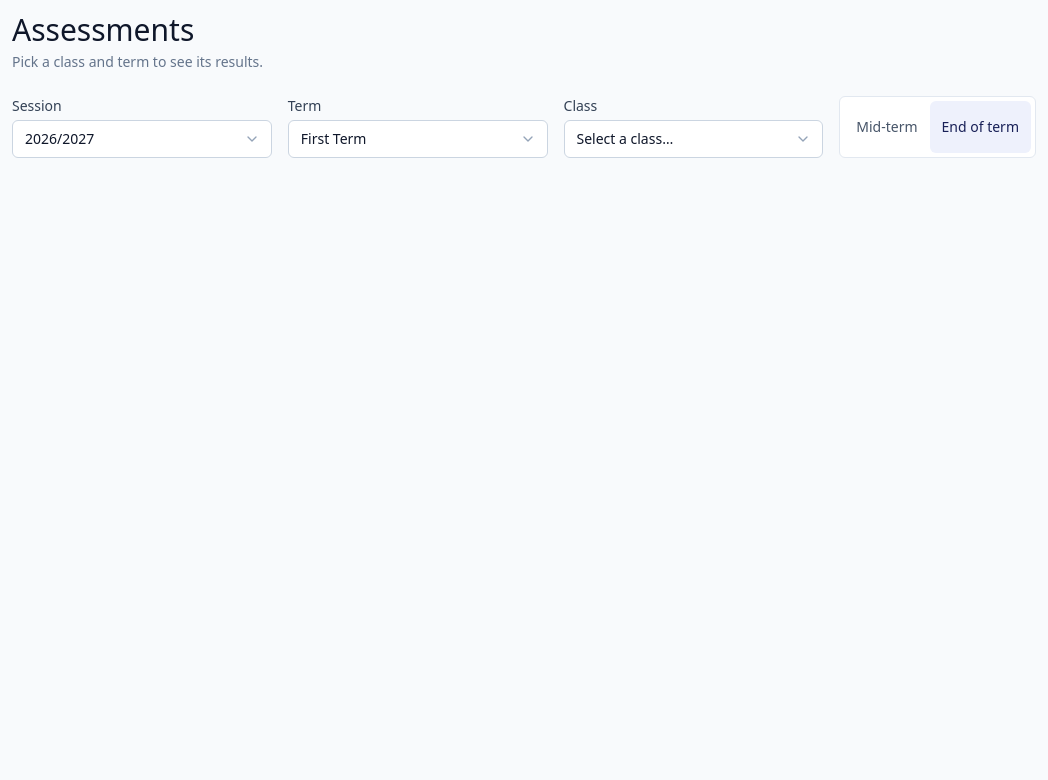
Test: AdminResultsPanel › heads the remarks composer with the resolved commenter's title, not a hard-coded 'Principal'
Select "Primary 1A" in the dropdown labelled "Class" at (693, 139), box [564,120,823,158]
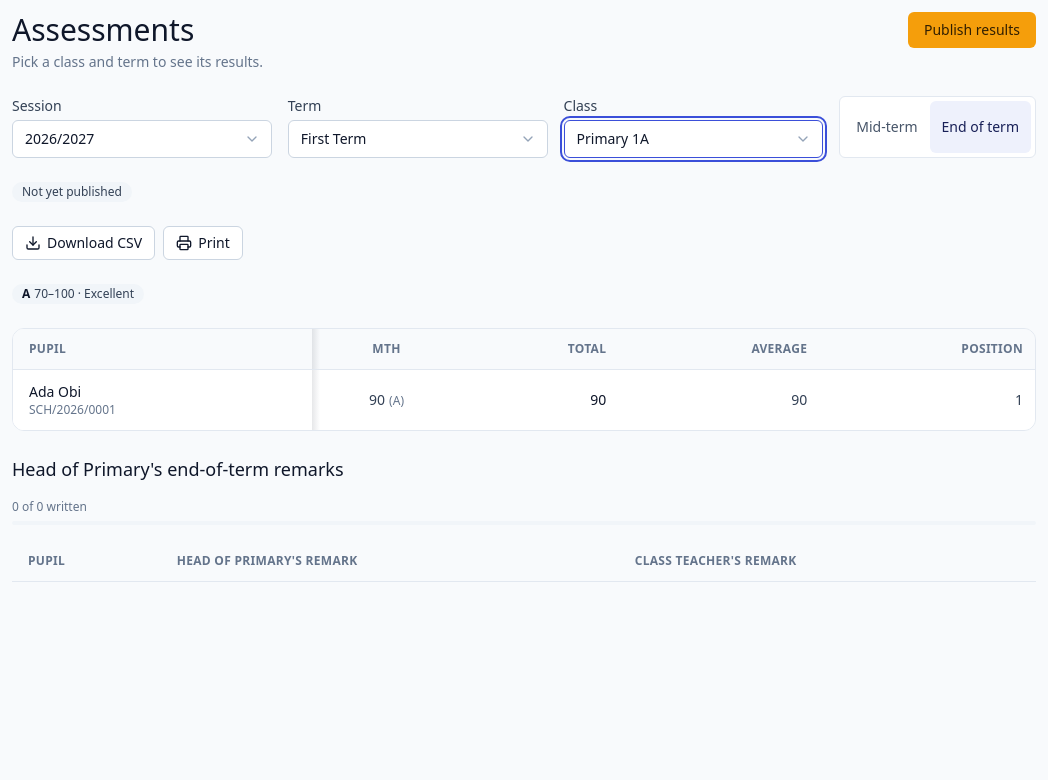
expect the heading "Head of Primary's end-of-term remarks" is shown: met, box [12,457,344,481]
